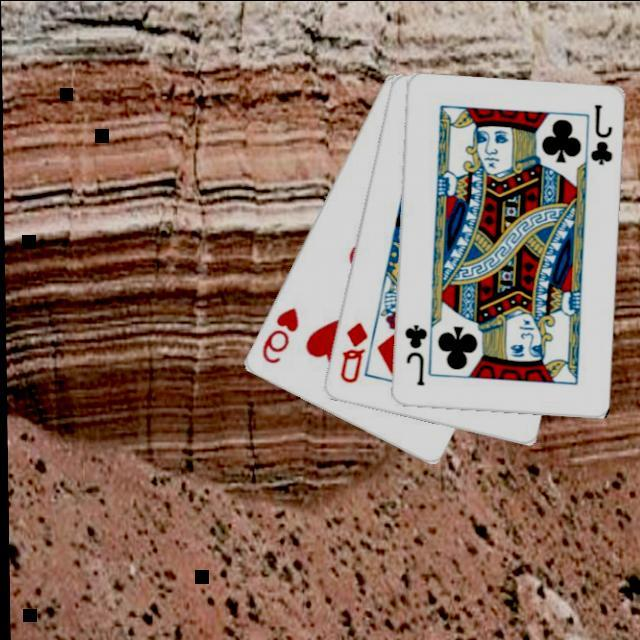6H: (258, 302, 302, 366)
JC: (400, 320, 430, 388), (586, 100, 616, 166)
QD: (336, 316, 370, 384)
